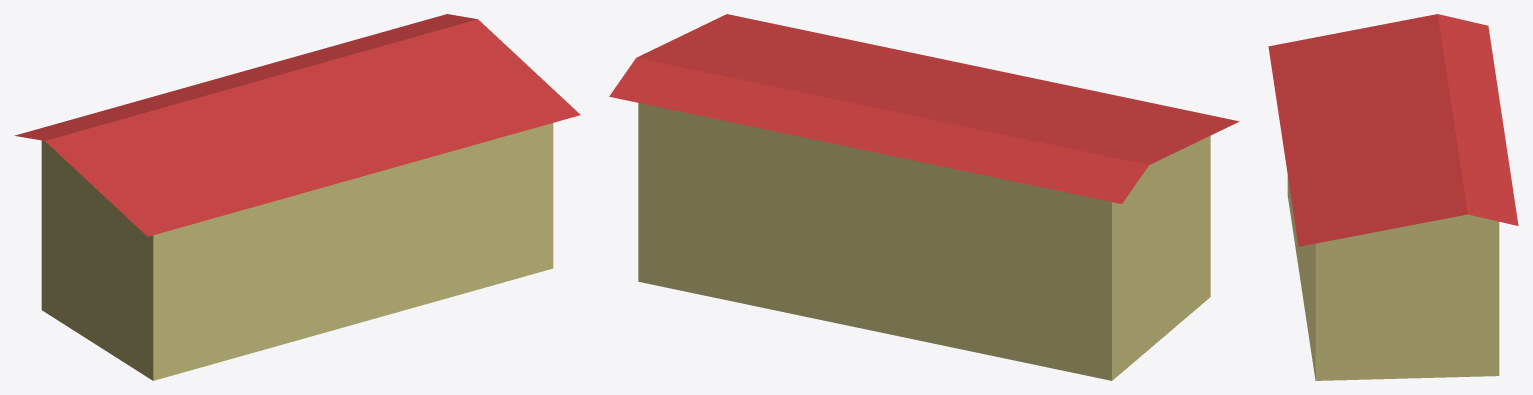
3 renders of one model, left to right at view 1: azimuth 30°, elevation 25°; view 2: azimuth 150°, elevation 25°; view 3: azimuth 270°, elevation 25°, orthographic. The views are drawn at different scales.
Bounding box in the file's own units: 20.19 × 10.34 × 7.76.
